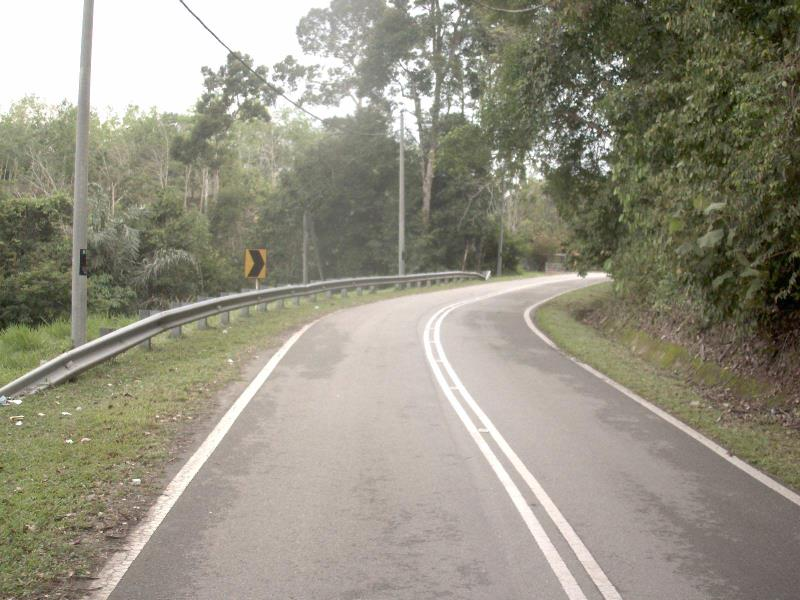traffic_sign: (238, 242, 272, 285)
